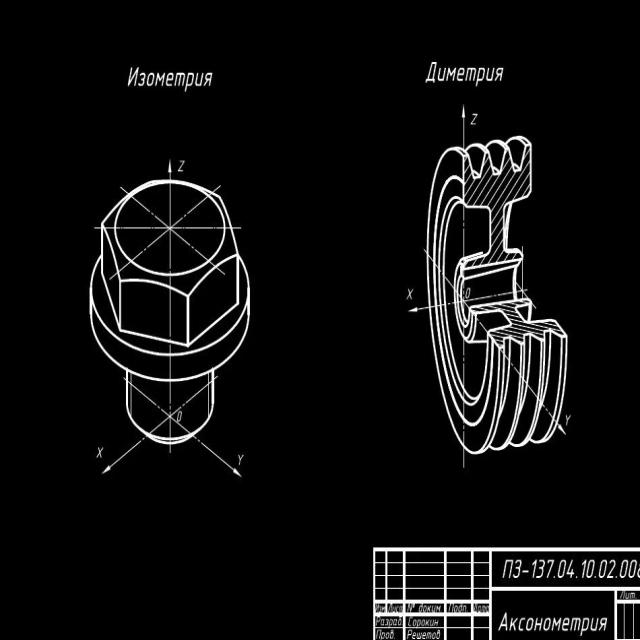marking_line: (195, 436, 245, 477), (102, 434, 144, 475), (460, 104, 468, 145), (409, 304, 428, 314), (166, 160, 175, 179), (558, 423, 568, 436)
numeric: (502, 559, 513, 579), (545, 559, 555, 579), (566, 559, 575, 580), (587, 559, 596, 580), (620, 556, 628, 579), (513, 559, 522, 579), (598, 559, 607, 579), (629, 559, 638, 579), (557, 559, 566, 578), (608, 558, 616, 579), (537, 559, 545, 579), (581, 558, 588, 580), (471, 110, 479, 128), (405, 287, 415, 301), (531, 557, 537, 579), (178, 159, 185, 173), (97, 446, 104, 459), (237, 453, 244, 466), (565, 413, 572, 425), (177, 411, 183, 422)
